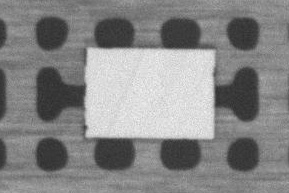DIE_CRACK: (104, 50, 144, 134)
